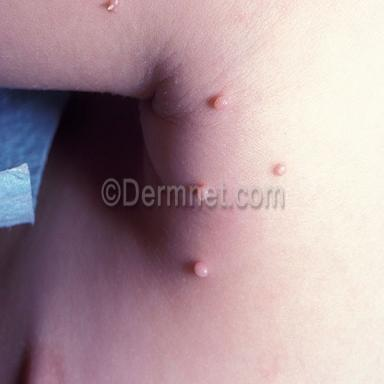Molluscum-Contagiosum: (214, 94, 230, 112), (194, 261, 210, 278), (273, 162, 287, 175)
